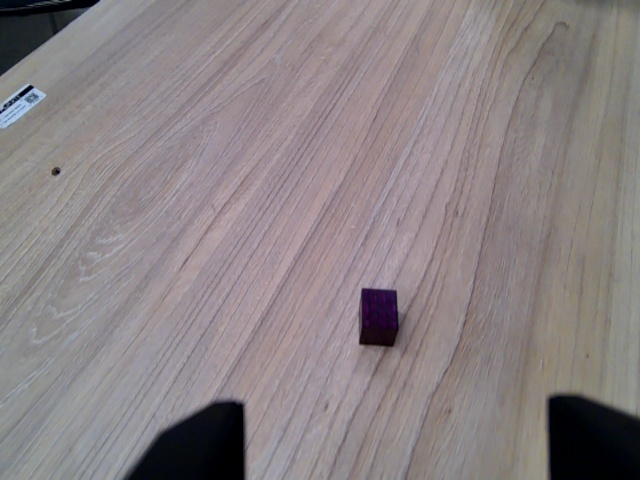brick: (355, 284, 402, 348)
